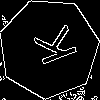K: (24, 23, 78, 71)
